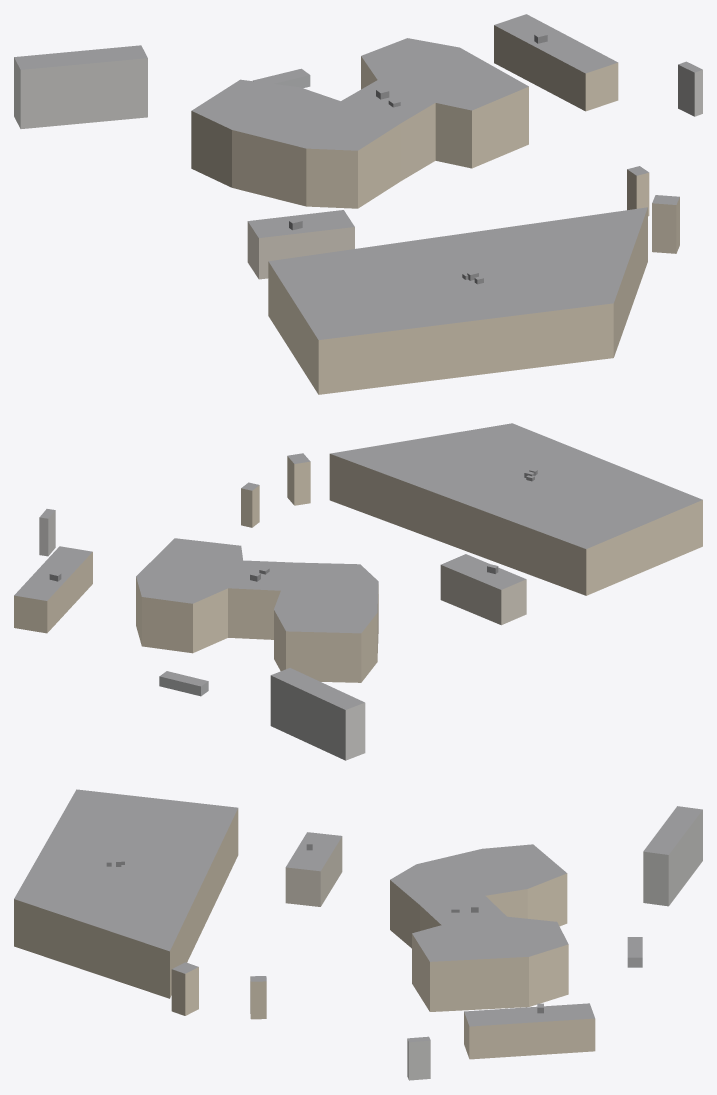
The model's file is building_3_5.glb.
3 renders of one model, top to bottom at view 1: azimuth 30°, elevation 25°; view 2: azimuth 150°, elevation 25°; view 3: azimuth 270°, elevation 25°, orthographic. The views are drawn at different scales.
Parts seen in each view (by area): view 1: roof, sandstone, concrete_light, concrete_warm; view 2: roof, sandstone, concrete_light, concrete_warm, industrial; view 3: roof, sandstone, concrete_light, concrete_warm.
Part boxes in pixels (x1,y1,x2,y2): roof: [14, 14, 702, 339]; sandstone: [191, 25, 679, 394]; concrete_light: [14, 57, 702, 128]; concrete_warm: [247, 221, 354, 279]; roof: [14, 423, 702, 709]; sandstone: [14, 454, 702, 682]; concrete_light: [39, 510, 365, 760]; concrete_warm: [440, 565, 526, 625]; industrial: [159, 676, 208, 696]; roof: [14, 789, 702, 1042]; sandstone: [14, 808, 595, 1059]; concrete_light: [407, 810, 702, 1080]; concrete_warm: [285, 836, 342, 906].
Size of the model in its own units: 156 by 16.65 by 186.
